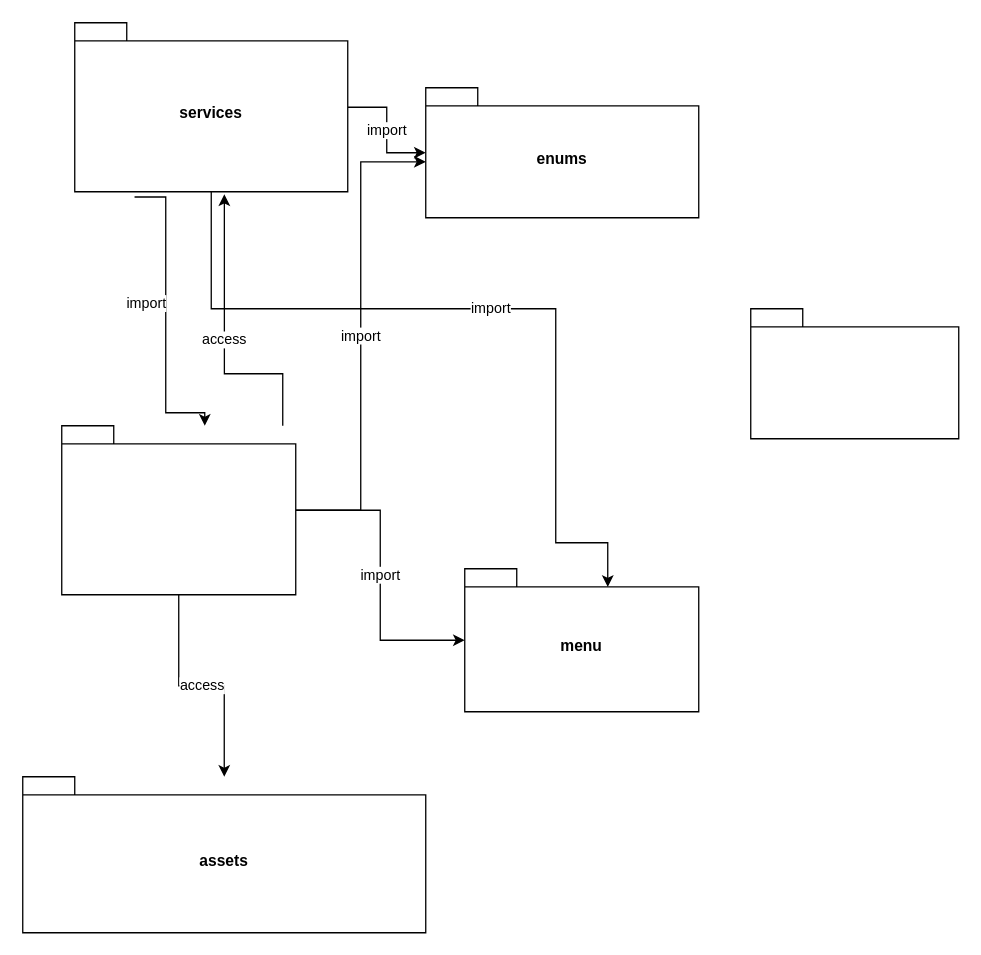
Image size: 981x955. Some labels were removed from this diagram. The centre of each missing label's shape, as x and y in pixels:
"repositories" belongs at (x=854, y=373).
"ui" belongs at (x=178, y=509).
